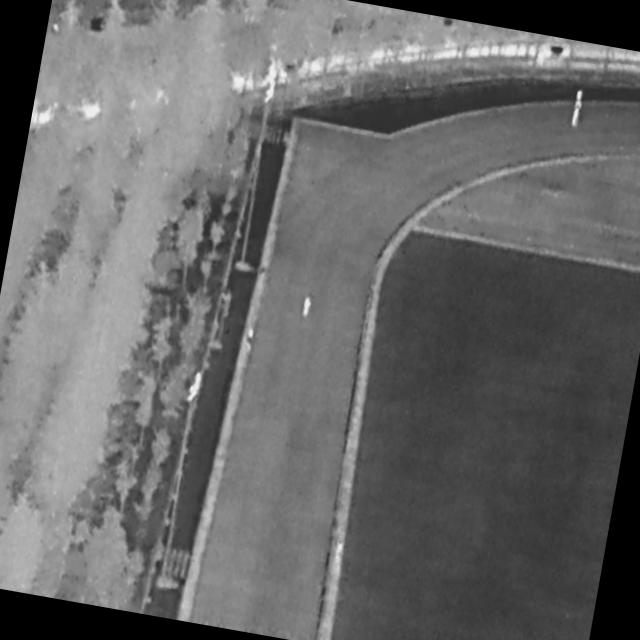person: (333, 539, 346, 566), (301, 293, 314, 320), (244, 326, 257, 352), (574, 87, 585, 110), (572, 105, 582, 128)
